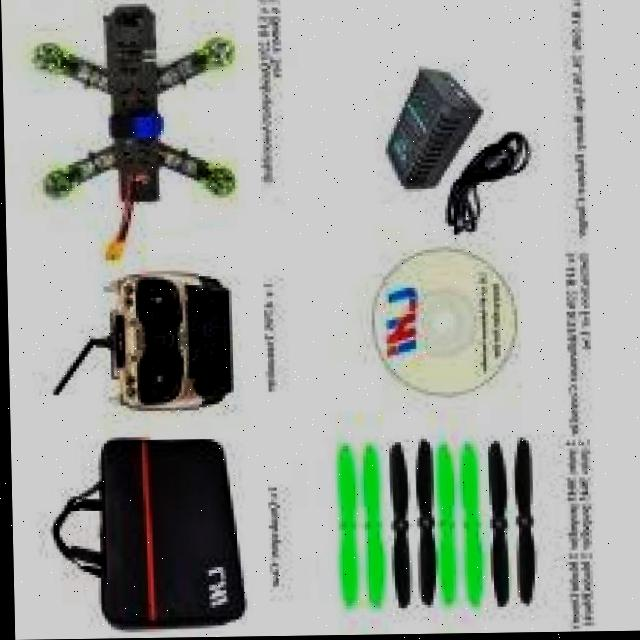drone: (18, 0, 251, 259)
